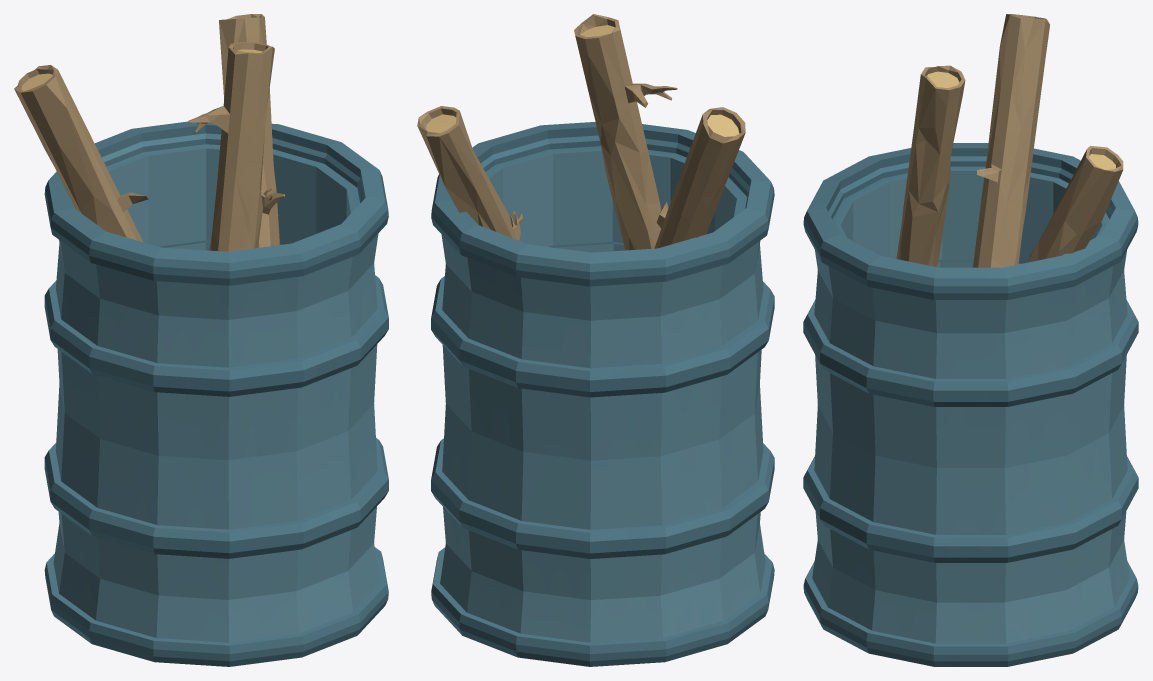
The model's file is barell_With_wood.obj.
3 views of the same model, side by side, from view 1: azimuth 30°, elevation 25°; view 2: azimuth 150°, elevation 25°; view 3: azimuth 270°, elevation 25° (orthographic). The views are drawn at different scales.
Parts seen in each view (by area): view 1: barell_With_wood_Mesh; view 2: barell_With_wood_Mesh; view 3: barell_With_wood_Mesh.
Part boxes in pixels (box(x1,y1,x2,y2)): barell_With_wood_Mesh: box(14, 14, 388, 666); barell_With_wood_Mesh: box(417, 14, 774, 666); barell_With_wood_Mesh: box(803, 14, 1138, 666).
Size of the model in its own units: 0.7344 by 1.24 by 0.6992.
